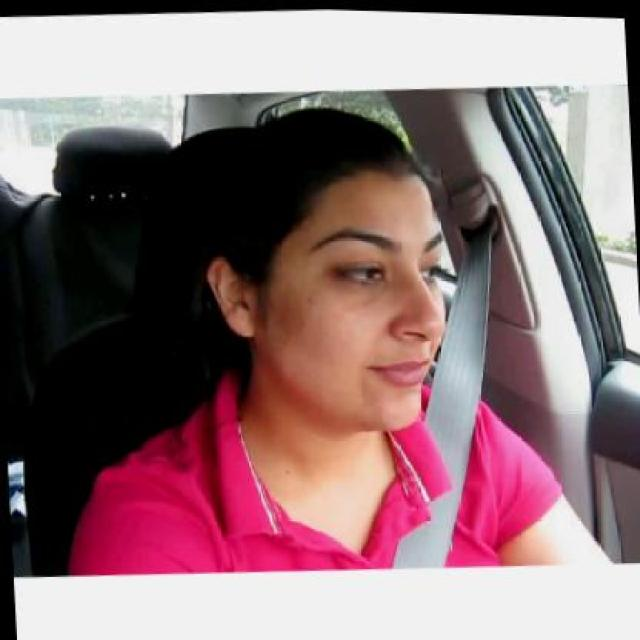attentif: (200, 92, 454, 438)
